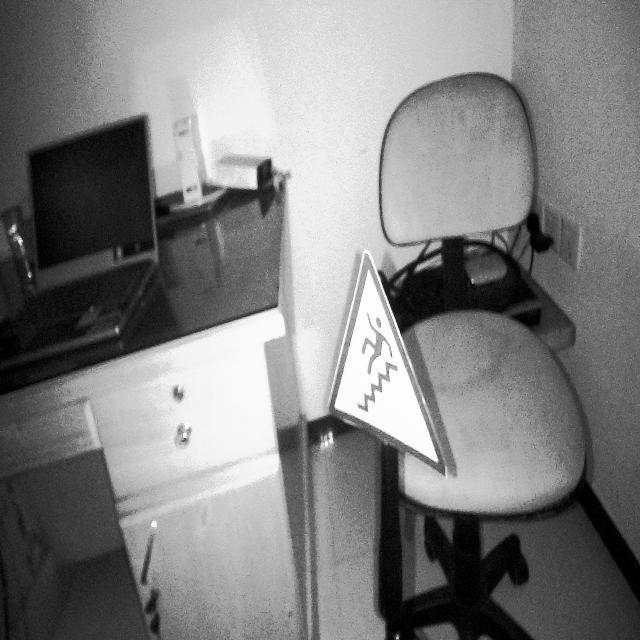Sign: (326, 249, 450, 483)
